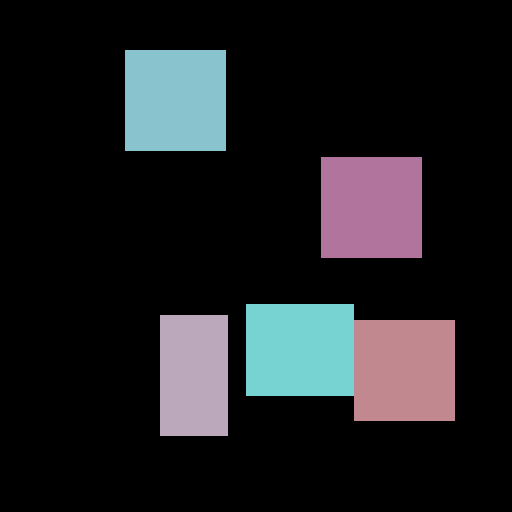rectangle: (246, 304, 454, 420), (160, 315, 227, 435)
square: (321, 157, 421, 257), (125, 50, 225, 150)
